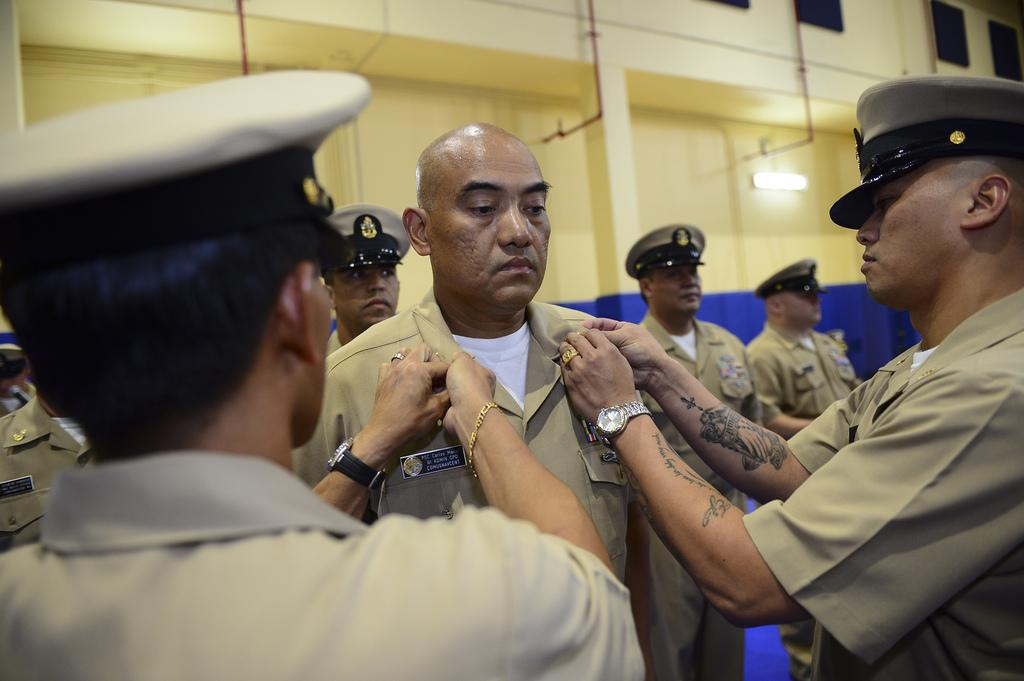Hat: (0, 66, 372, 280), (826, 72, 1022, 231), (324, 204, 414, 280), (620, 222, 708, 282), (754, 257, 824, 298)
